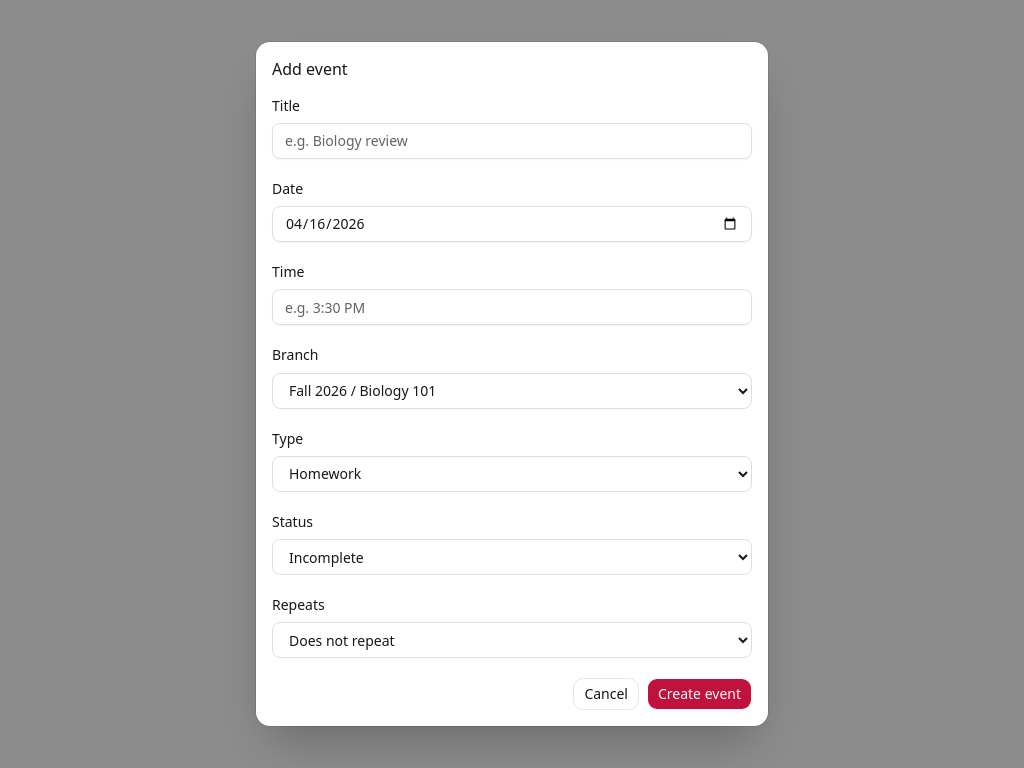
EventOverlay › explains what is wrong and does not submit an invalid form
Click the button "Create event" at (700, 694), box top-left (647, 678), bottom-right (752, 710)
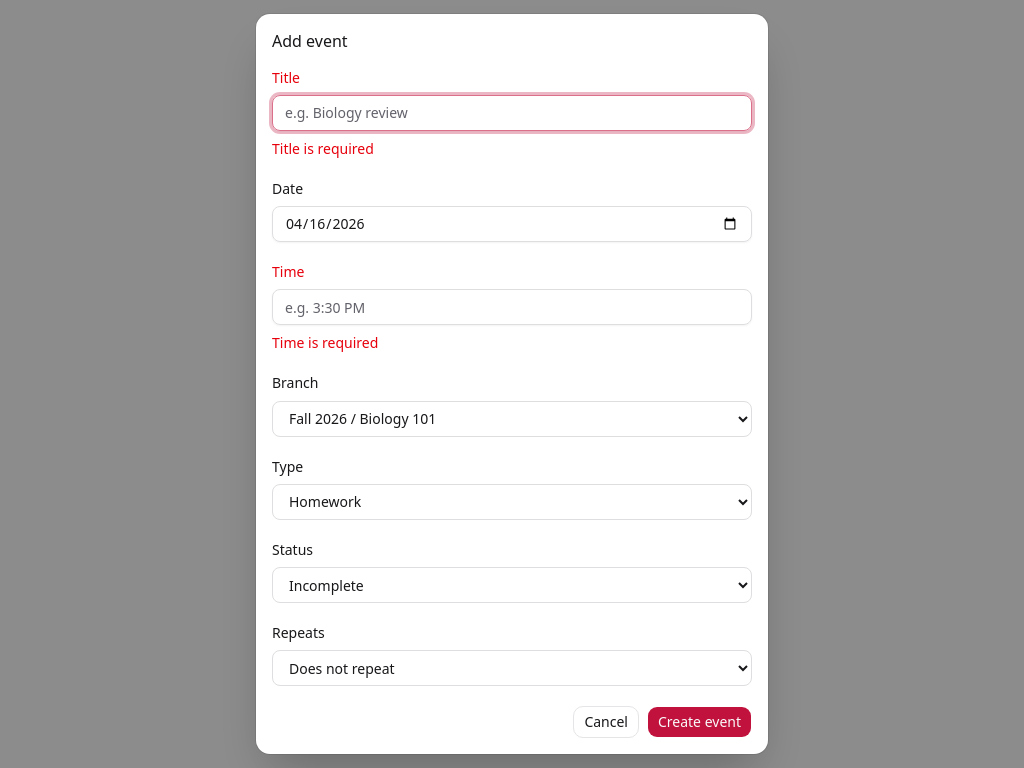
Expected: the text "Title is required" is shown, top-left (272, 139), bottom-right (374, 158)
Expected: the text "Time is required" is shown, top-left (272, 333), bottom-right (378, 352)
